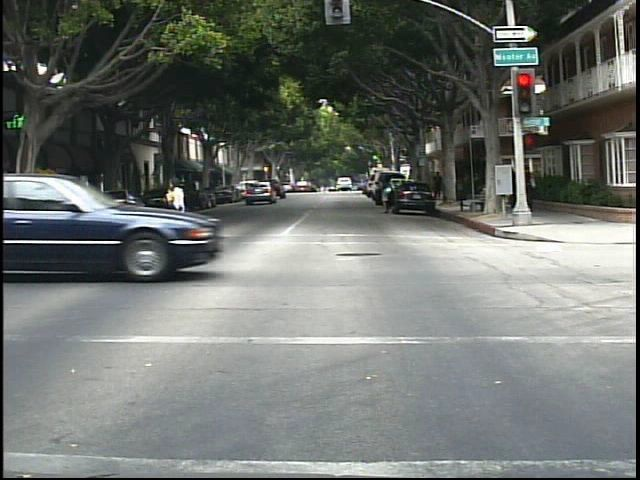person: (163, 172, 199, 222), (373, 172, 398, 216), (432, 168, 448, 201)
